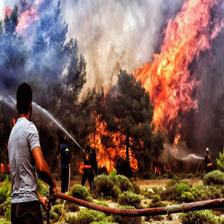fire: (140, 2, 218, 138), (72, 109, 152, 180)
